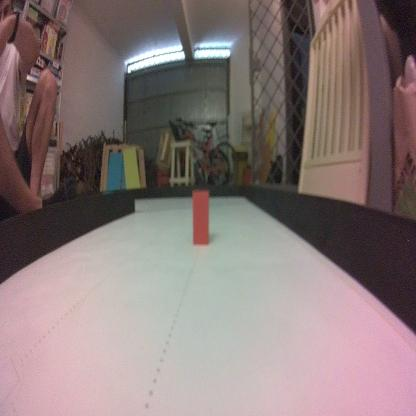red: (191, 190, 209, 246)
